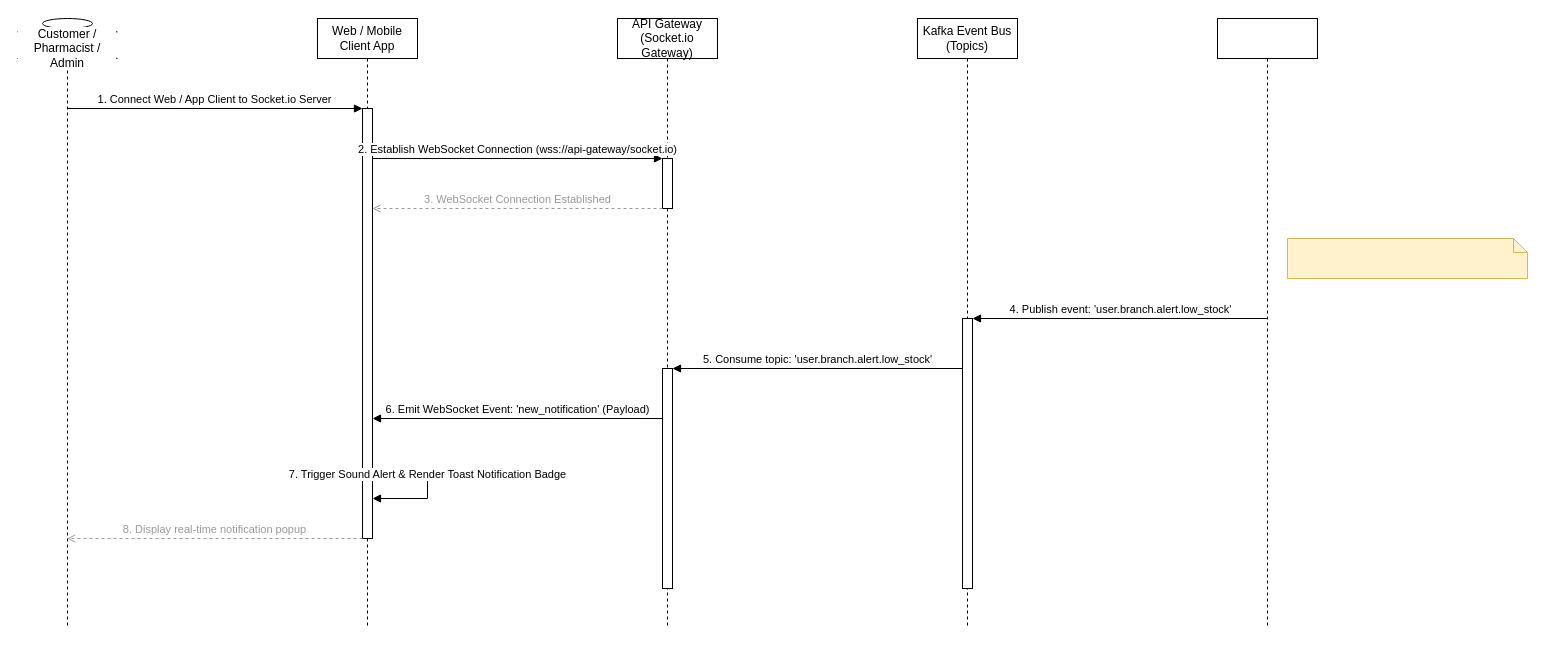
This 1545x646 diagram has some shape labels left out. The box of each missing label's shape, as (x1, y1, x2, y2) in pixels:
Event triggered: Near-Expiry Alert / PO Approval / Order Status Update: (1286, 238, 1528, 278)
Notification Service: (1216, 18, 1318, 628)
